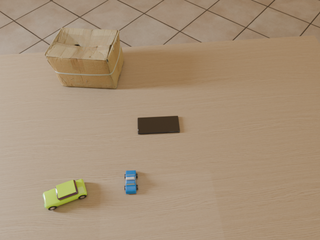box: (45, 28, 124, 89)
phone: (138, 116, 180, 134)
toy_car: (43, 179, 87, 210), (125, 170, 138, 194)
